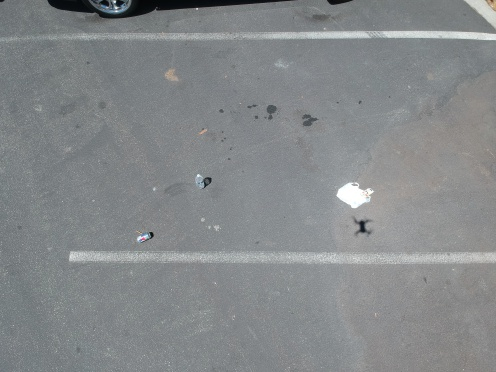bottle: (191, 171, 208, 191)
can: (130, 229, 155, 243)
plastic bag: (328, 172, 375, 211)
